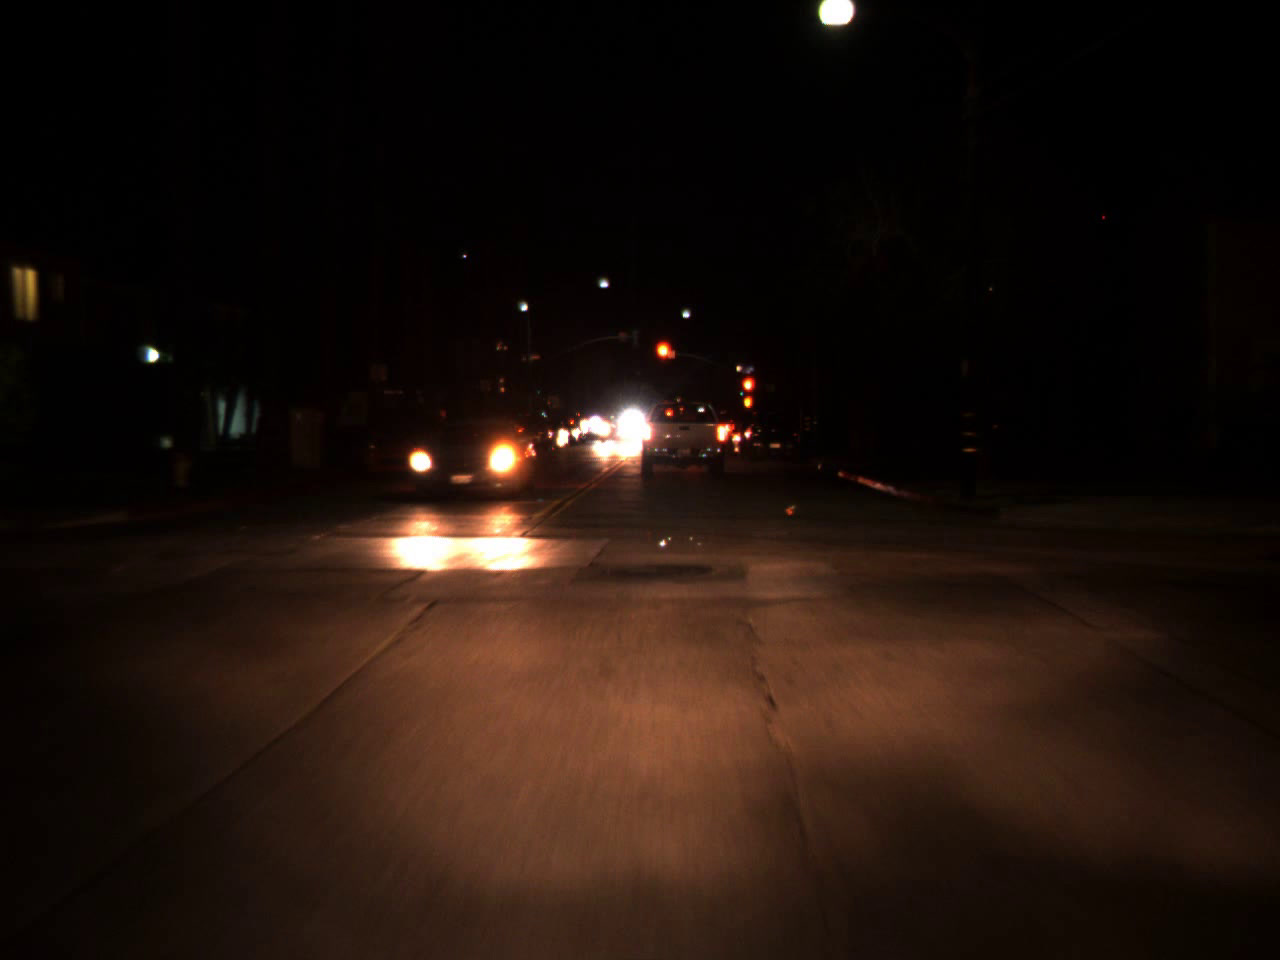stop: (653, 338, 675, 381), (740, 375, 755, 407)
